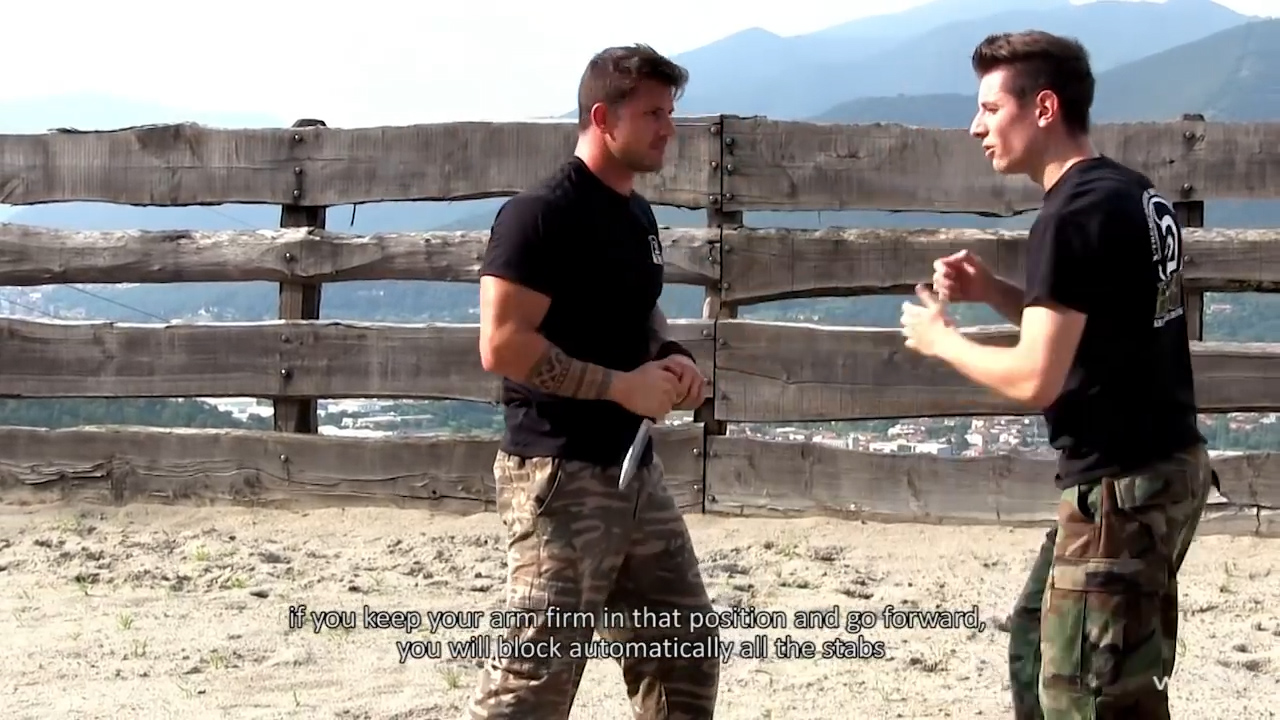knife: (607, 369, 676, 502)
